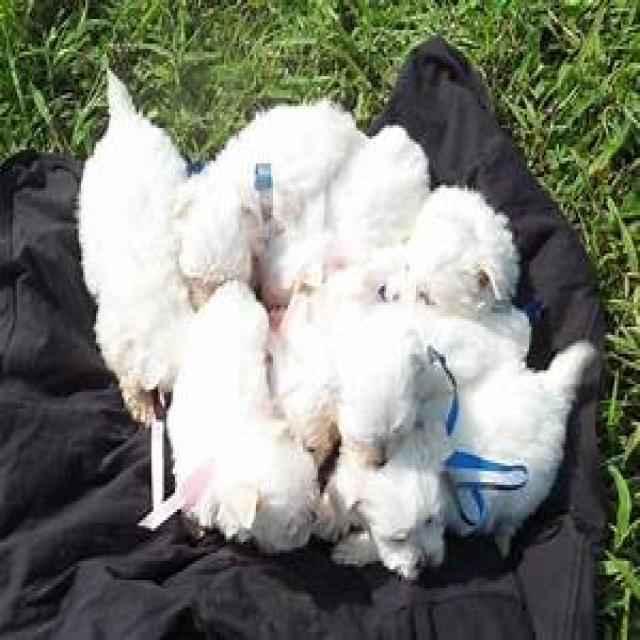dog: (145, 281, 318, 553), (81, 76, 192, 392)
